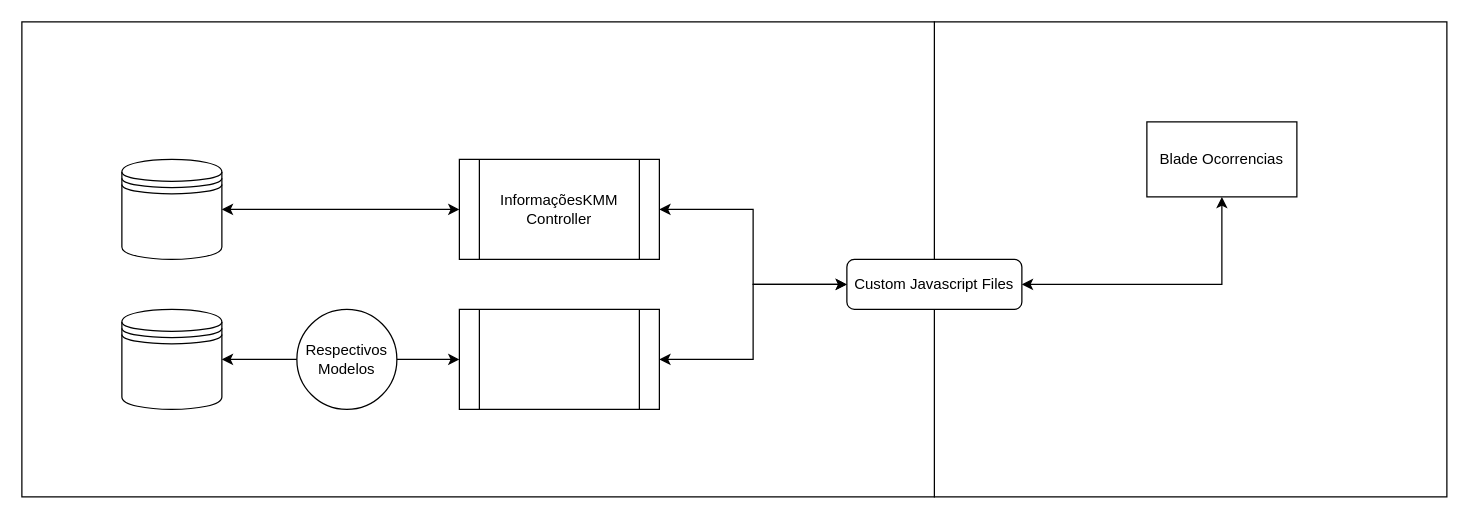
Some shapes in this 1469 by 519 pixel diagram are drawn without their labels. The shapes that lost their labels are listed below. From the top down, each one's centre as x and y in pixels, then its label:
point (171, 208): Oracle (KMM DB)
point (171, 358): Local DB
point (558, 358): Ação, Meio de Abertura, Motivo, Tipo and Controller
